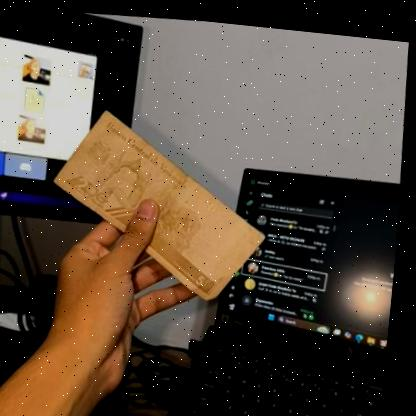five-back-vef: (47, 98, 281, 305)
